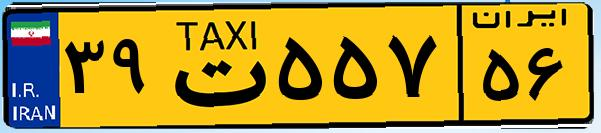3: (57, 26, 110, 100)
5: (270, 28, 330, 110), (330, 28, 385, 110), (475, 38, 525, 113)
6: (525, 38, 570, 115)
7: (385, 28, 445, 110)
9: (110, 28, 158, 98)
ت: (158, 12, 270, 120)
